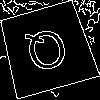Q: (21, 24, 73, 83)
